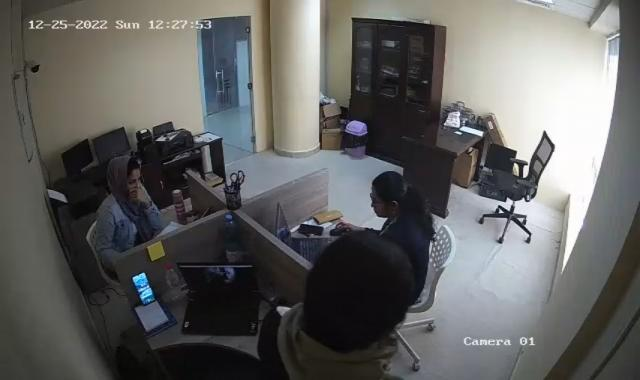no_hairnet: (304, 228, 411, 345), (367, 165, 412, 222), (106, 154, 142, 191)
